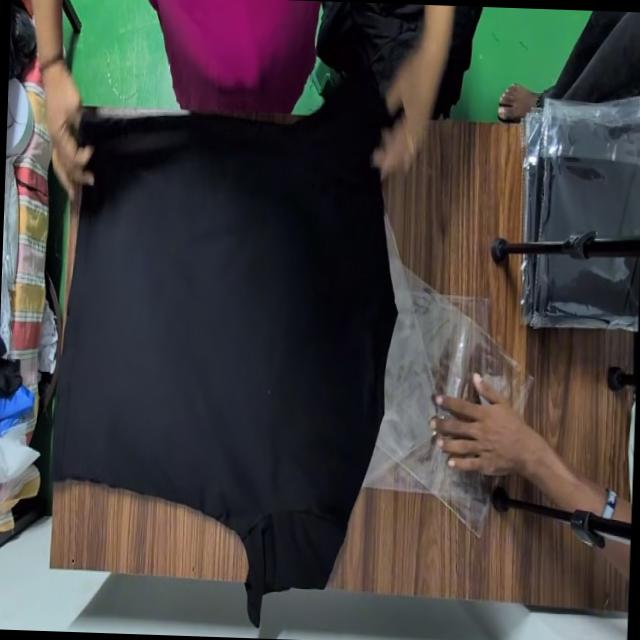new-garment: (53, 83, 396, 623)
